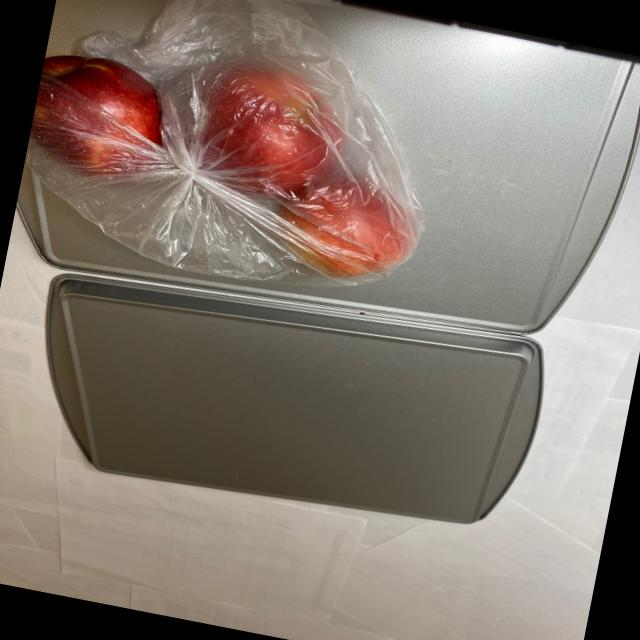apple: (18, 3, 450, 296)
